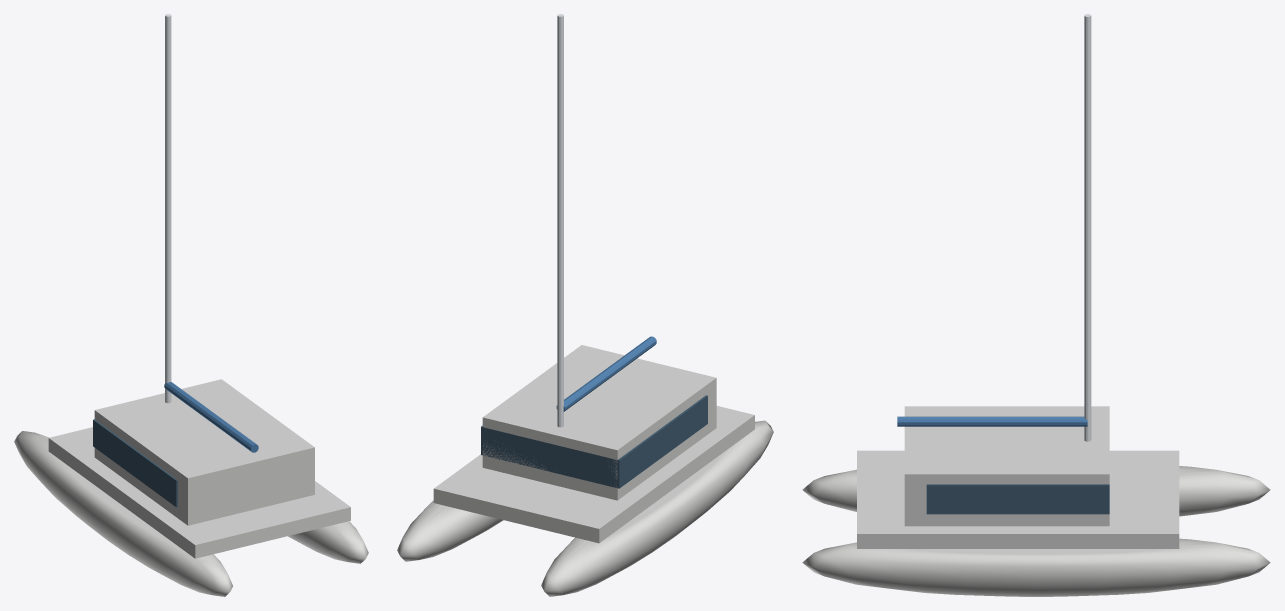
Rendered from Boat_Catamaran.fbx.
3 renders of one model, left to right at view 1: azimuth 30°, elevation 25°; view 2: azimuth 150°, elevation 25°; view 3: azimuth 270°, elevation 25°, orthographic. The views are drawn at different scales.
Visible parts, largest first — view 1: Cube.001, Cube, Sphere, Cylinder, Cube.002, Sphere.001, Cylinder.001; view 2: Cube.001, Cube, Sphere, Cube.002, Sphere.001, Cylinder, Cylinder.001; view 3: Sphere.001, Cube.001, Cube, Cube.002, Sphere, Cylinder, Cylinder.001.
Boxes of the visible parts, <box> form: Cube.001: <box>94,379,314,525</box>; Cube: <box>48,427,350,558</box>; Sphere: <box>14,431,232,596</box>; Cylinder: <box>165,14,171,403</box>; Cube.002: <box>93,419,177,507</box>; Sphere.001: <box>288,521,368,563</box>; Cylinder.001: <box>164,382,258,452</box>; Cube.001: <box>482,345,716,500</box>; Cube: <box>433,406,754,543</box>; Sphere: <box>541,420,773,596</box>; Cube.002: <box>481,395,707,488</box>; Sphere.001: <box>397,500,503,561</box>; Cylinder: <box>557,14,563,427</box>; Cylinder.001: <box>556,336,656,411</box>; Sphere.001: <box>802,538,1270,596</box>; Cube.001: <box>904,406,1109,526</box>; Cube: <box>857,450,1179,548</box>; Cube.002: <box>926,484,1109,514</box>; Sphere: <box>802,466,1270,516</box>; Cylinder: <box>1084,14,1091,441</box>; Cylinder.001: <box>897,416,1087,426</box>.
Size of the model in its own units: 6.54 by 16.35 by 12.8.
